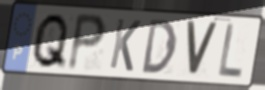D: (141, 18, 178, 75)
K: (107, 16, 143, 74)
L: (216, 22, 245, 81)
P: (65, 11, 109, 74)
Q: (29, 11, 71, 71)
V: (185, 19, 220, 79)
